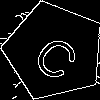C: (29, 26, 89, 84)
